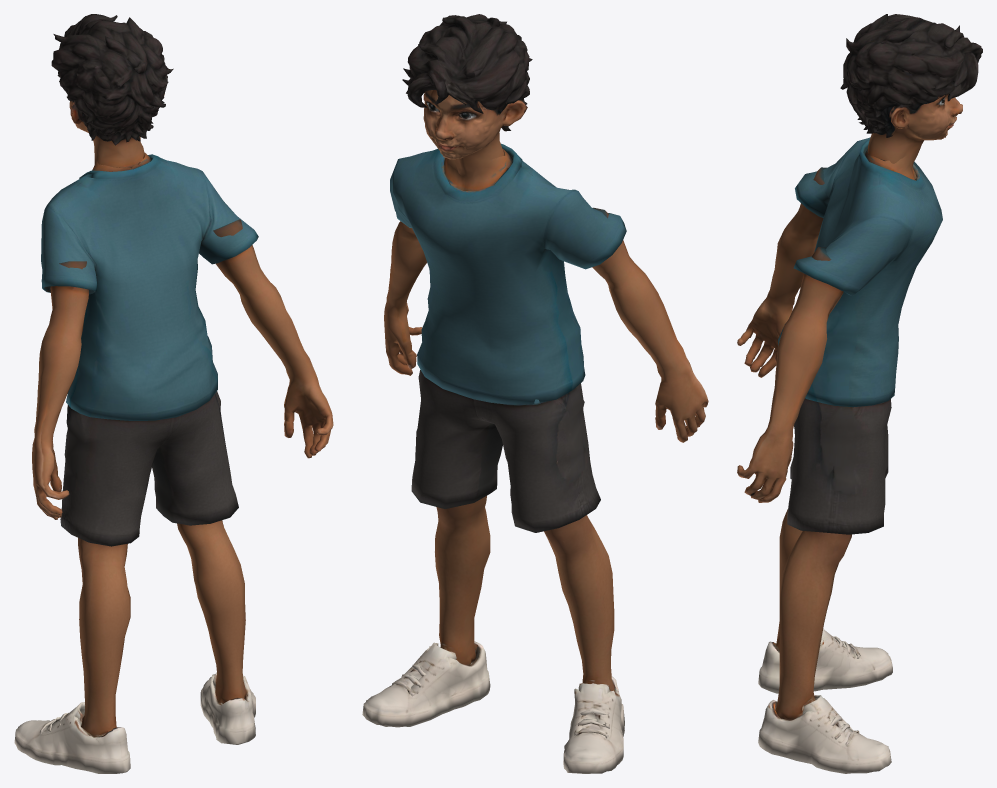
The model's file is teen_courier_clean_rig_upper_body.glb.
3 views of the same model, side by side, from view 1: azimuth 30°, elevation 25°; view 2: azimuth 150°, elevation 25°; view 3: azimuth 270°, elevation 25° (orthographic). The views are drawn at different scales.
Visible parts, largest first — view 1: TeenCourier_Body; view 2: TeenCourier_Body; view 3: TeenCourier_Body.
Boxes of the visible parts, bbox=[...] form: TeenCourier_Body: bbox=[14, 14, 333, 773]; TeenCourier_Body: bbox=[362, 14, 708, 773]; TeenCourier_Body: bbox=[737, 14, 982, 773].
Bounding box in the file's own units: 0.7133 × 1.6 × 0.5084.
Materials: 5 (5 with a texture image).
